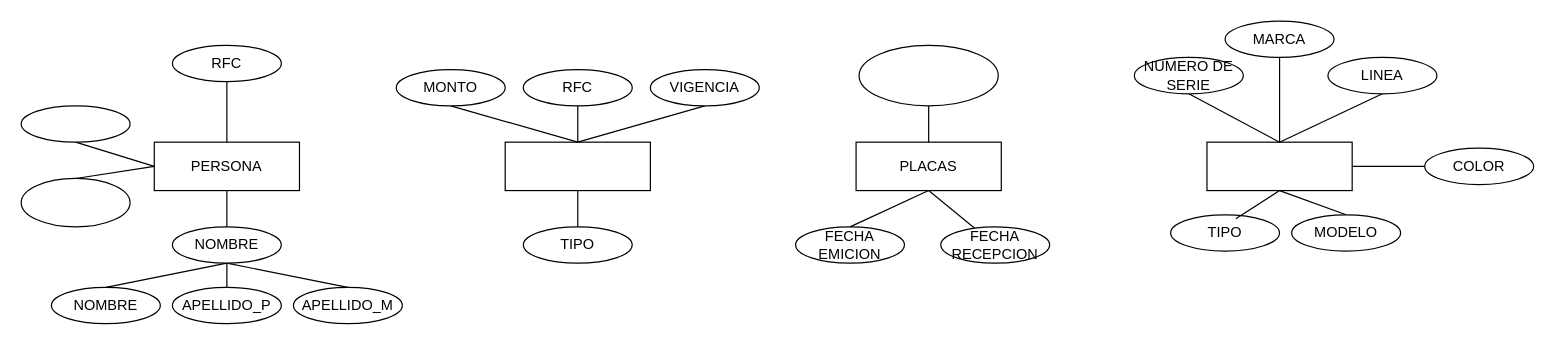
Image size: 1555x345. Some labels were removed from this diagram. Here are the shapes that lost their labels. From the top down, the centre of each, then its label:
(x=928, y=75): NUMERO ALFANUMERICO
(x=75, y=123): TELEFONO
(x=577, y=166): LICENCIA
(x=1279, y=166): AUTOMOVIL
(x=75, y=202): FECHA DE NACIMINETO
